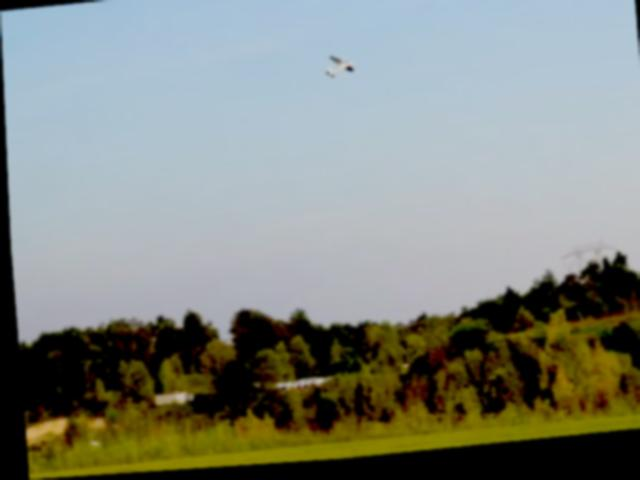uav: (320, 48, 360, 93)
